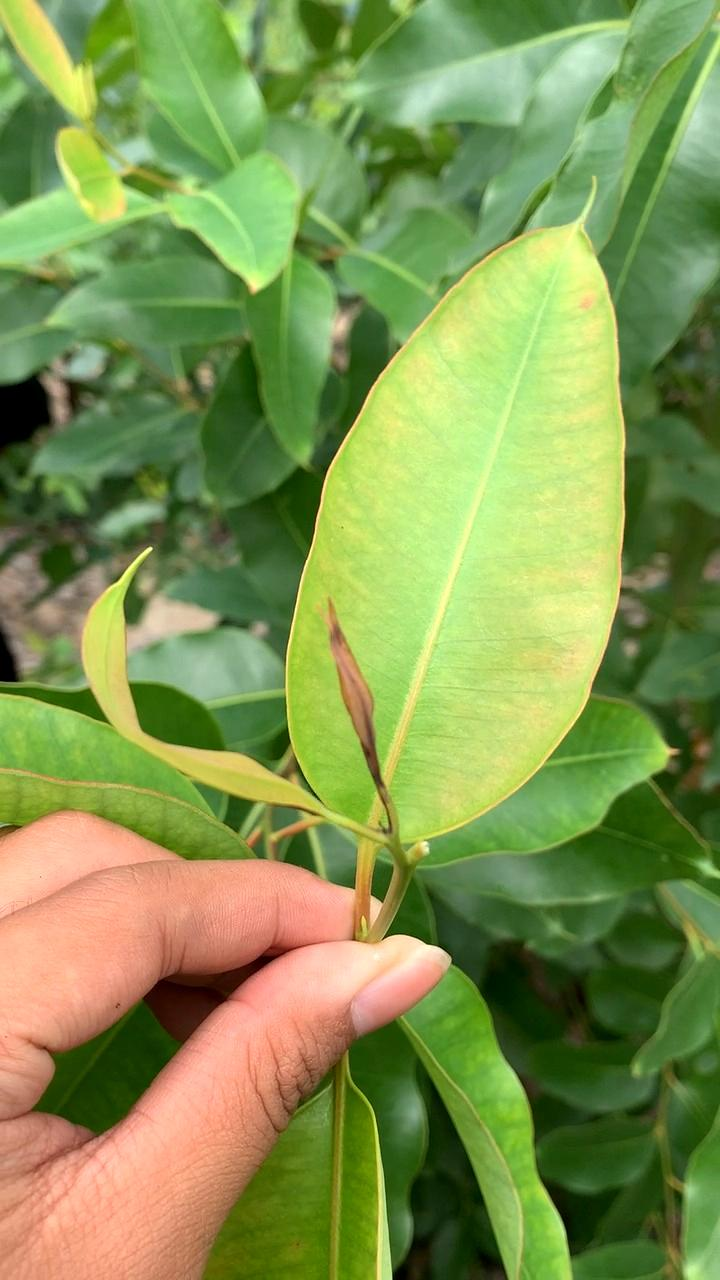Helopeltis-Withered Sprout: (306, 598, 423, 837)
